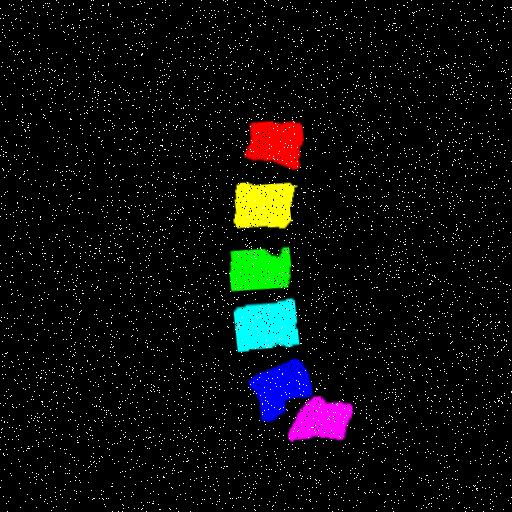L1: (244, 119, 304, 167)
L2: (235, 180, 297, 226)
L3: (230, 245, 291, 289)
L4: (234, 296, 300, 349)
L5: (249, 357, 313, 419)
S1: (288, 394, 353, 439)
